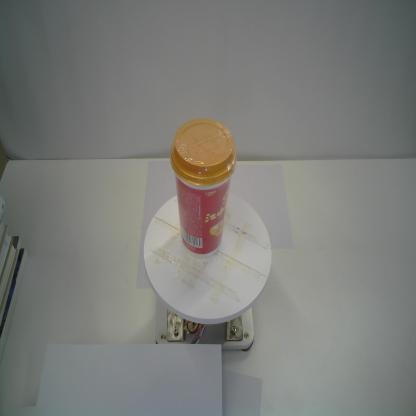Instant Drink: (169, 117, 237, 260)
